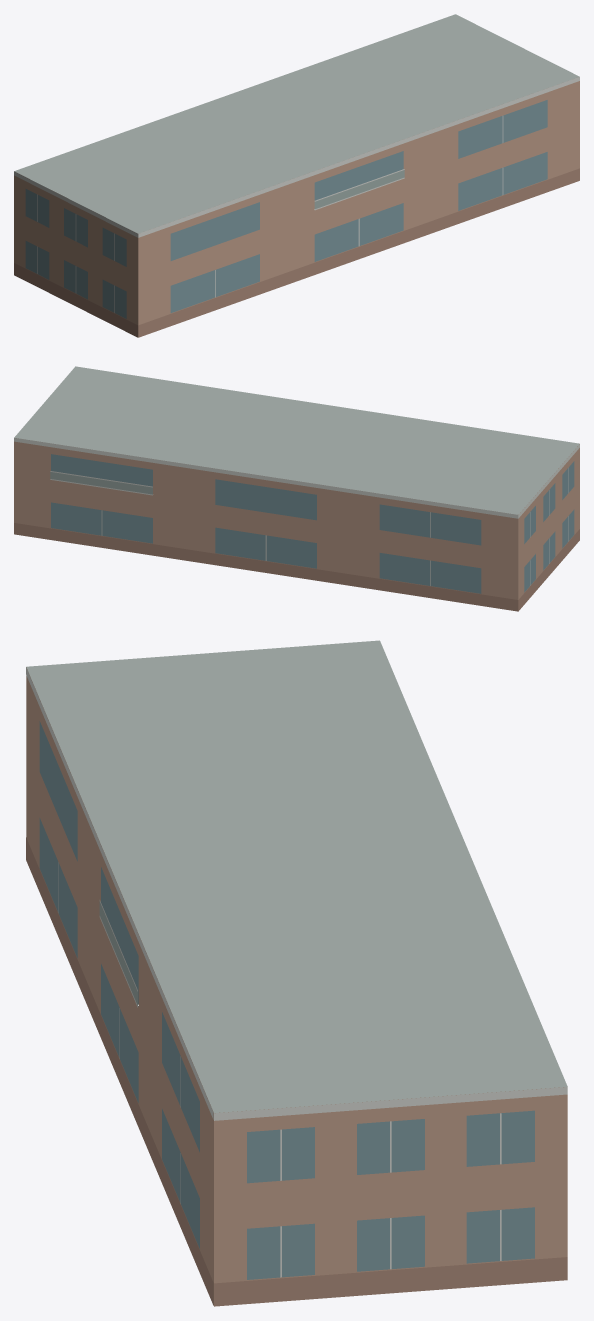
Rendered from survey-upis-32707662.glb.
3 renders of one model, top to bottom at view 1: azimuth 30°, elevation 25°; view 2: azimuth 150°, elevation 25°; view 3: azimuth 270°, elevation 25°, orthographic. The views are drawn at different scales.
Visible parts, largest first — view 1: survey-upis-32707662.tmp; view 2: survey-upis-32707662.tmp; view 3: survey-upis-32707662.tmp.
Boxes of the visible parts, box(x1,y1,x2,y2) form: survey-upis-32707662.tmp: box(14, 14, 579, 337); survey-upis-32707662.tmp: box(14, 366, 579, 611); survey-upis-32707662.tmp: box(26, 640, 567, 1306).
Size of the model in its own units: 32 by 6.1 by 15.5.
